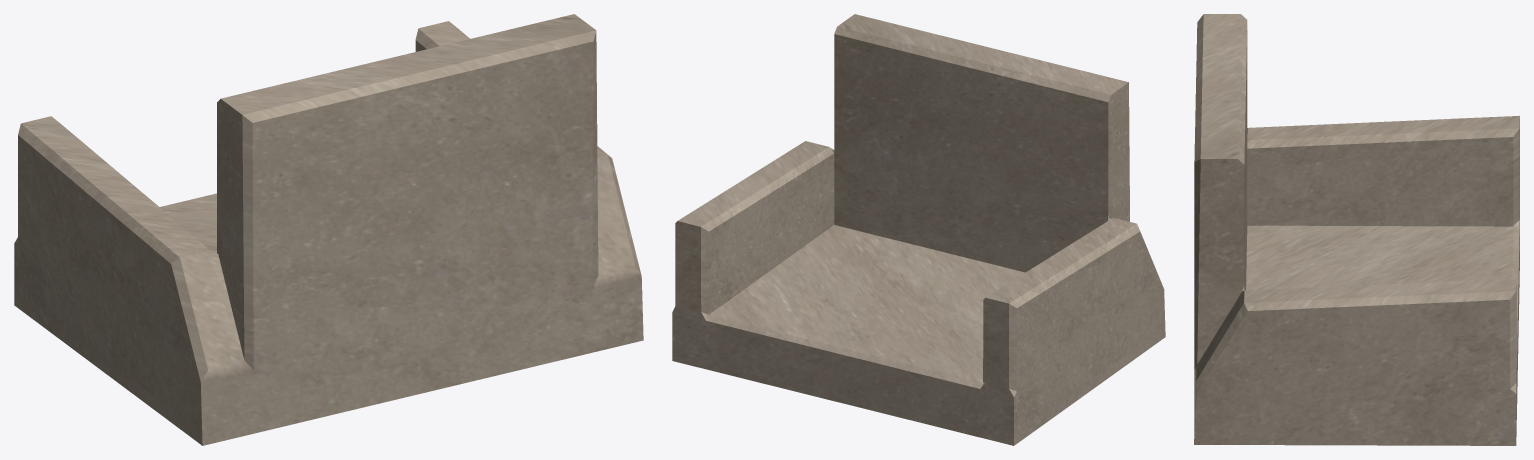
The model's file is Sofa_Don.fbx.
The picture shows the model from 3 angles, left to right: view 1: azimuth 30°, elevation 25°; view 2: azimuth 150°, elevation 25°; view 3: azimuth 270°, elevation 25°; orthographic projection. The views are drawn at different scales.
Visible parts, largest first — view 1: polySurface52; view 2: polySurface52; view 3: polySurface52.
Boxes of the visible parts, x1,y1,x2,y2 form: polySurface52: [14, 14, 643, 445]; polySurface52: [672, 14, 1165, 445]; polySurface52: [1194, 14, 1519, 445].
Size of the model in its own units: 771 by 530 by 584.
